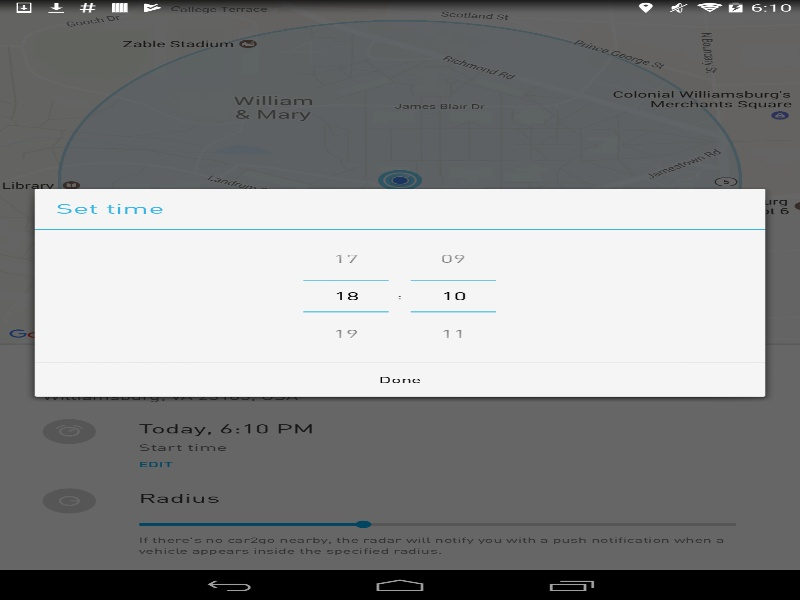Button: (34, 363, 765, 396), (410, 240, 496, 281), (410, 311, 496, 352), (303, 240, 388, 281), (303, 311, 388, 352)
Input: (410, 281, 496, 311), (303, 281, 388, 311)
